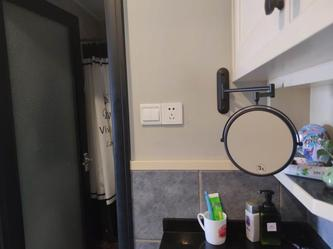switch: (141, 108, 163, 121)
